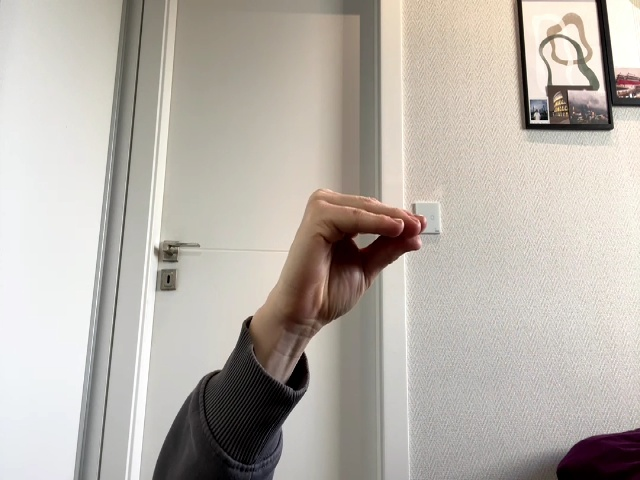E: (273, 189, 426, 336)
